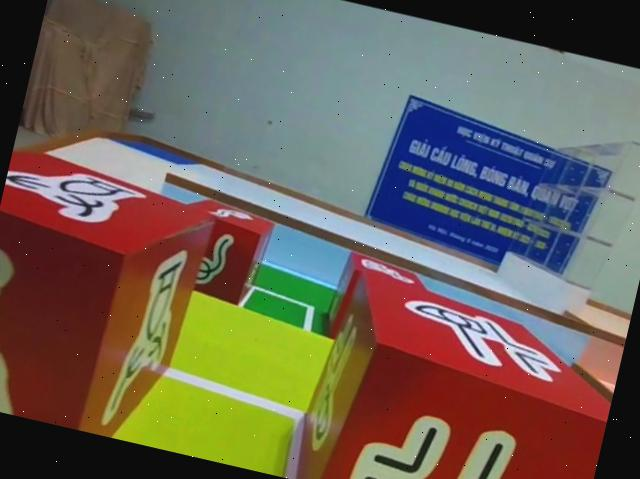R2 Real: (282, 254, 629, 479), (0, 138, 230, 450), (168, 192, 280, 314)
